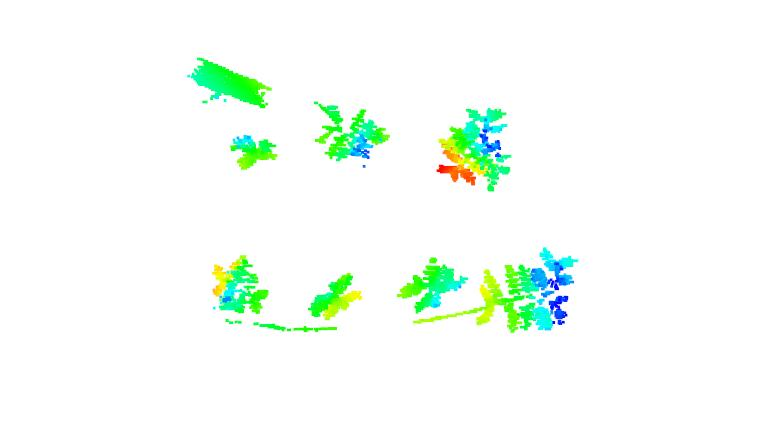chickpea: (473, 246, 578, 336), (430, 103, 519, 195), (307, 98, 394, 164), (397, 254, 469, 315), (207, 254, 270, 318), (307, 273, 362, 323), (227, 132, 282, 171)
